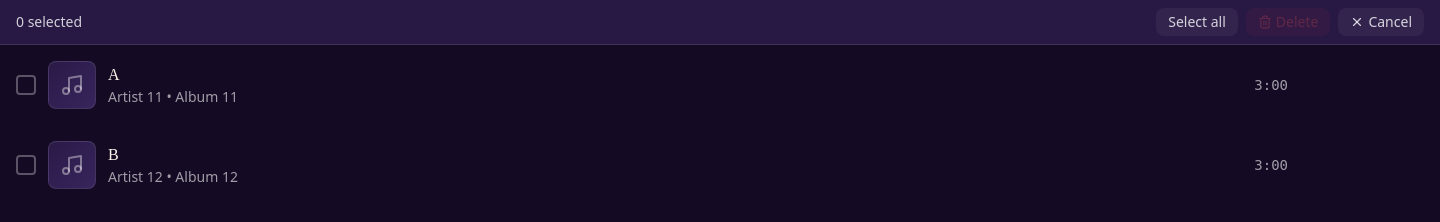
Test: SongList › Select all selects all visible songs
Click the button "Select all" at coordinates (1197, 22), box [1156, 8, 1238, 36]
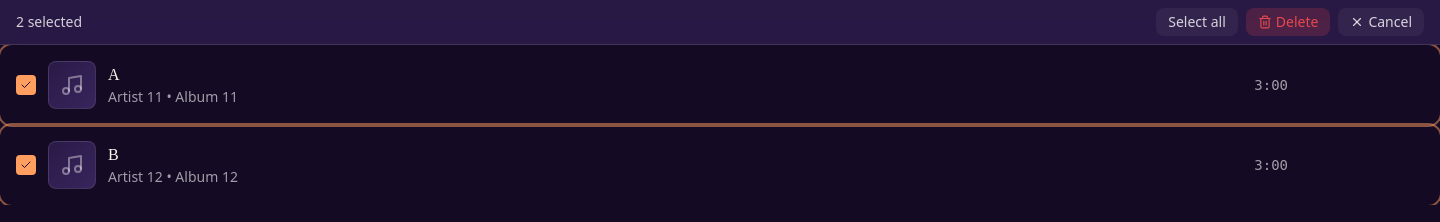
Check: the text "2 selected" is shown, box [16, 12, 82, 32]
